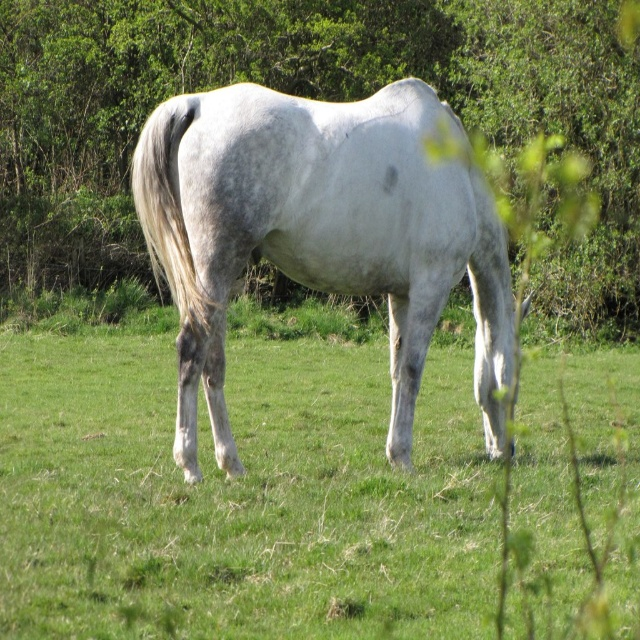Horse: (130, 76, 534, 483)
